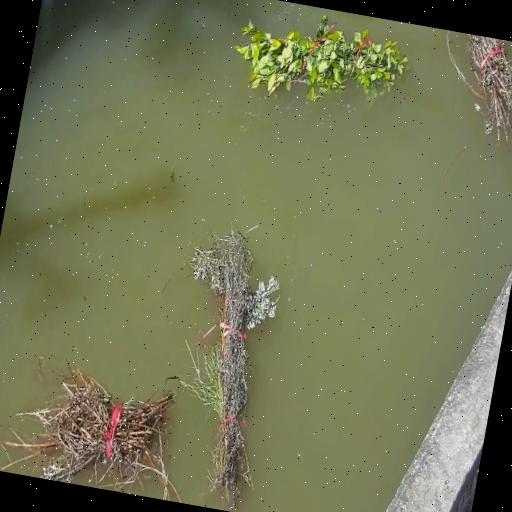twig: (169, 227, 279, 509), (51, 371, 176, 500), (235, 14, 407, 99), (448, 33, 512, 139)
